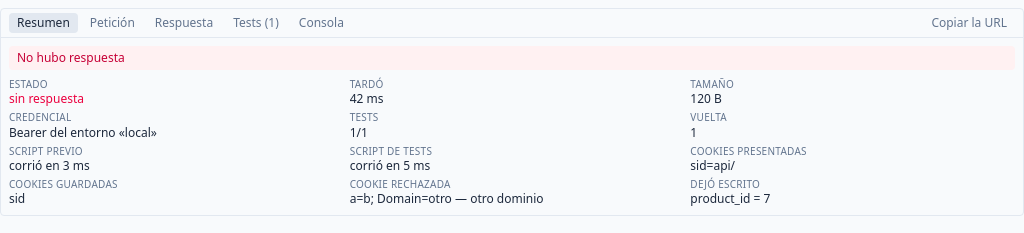
Test case: una petición de la corrida, abierta › cuando el fallo no tiene mensaje, se dice lo que se sabe
The image size is (1024, 233).
Click the button "Petición" at (112, 23), box [82,13,143,33]
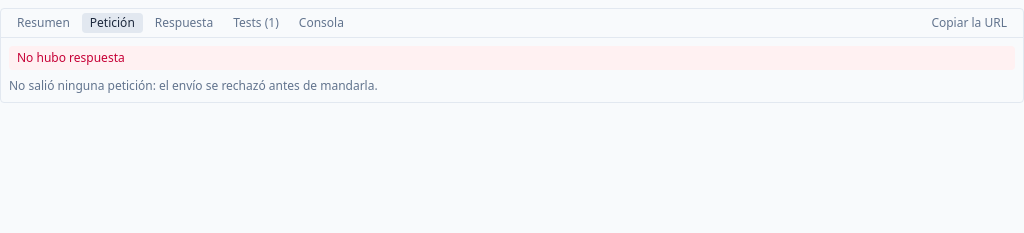
Check: the text "el envío se rechazó antes de mandarla" is shown, box [159,77,374,94]
Click the button "Respuesta" at (184, 23), box [147,13,221,33]
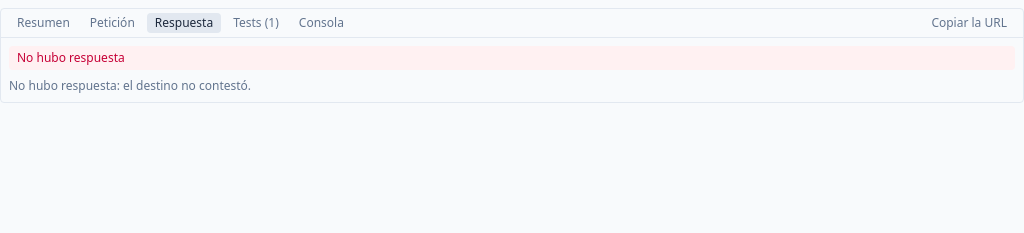
Check: the text "No hubo respuesta: el destino no contestó." is shown, box [9,77,251,94]
